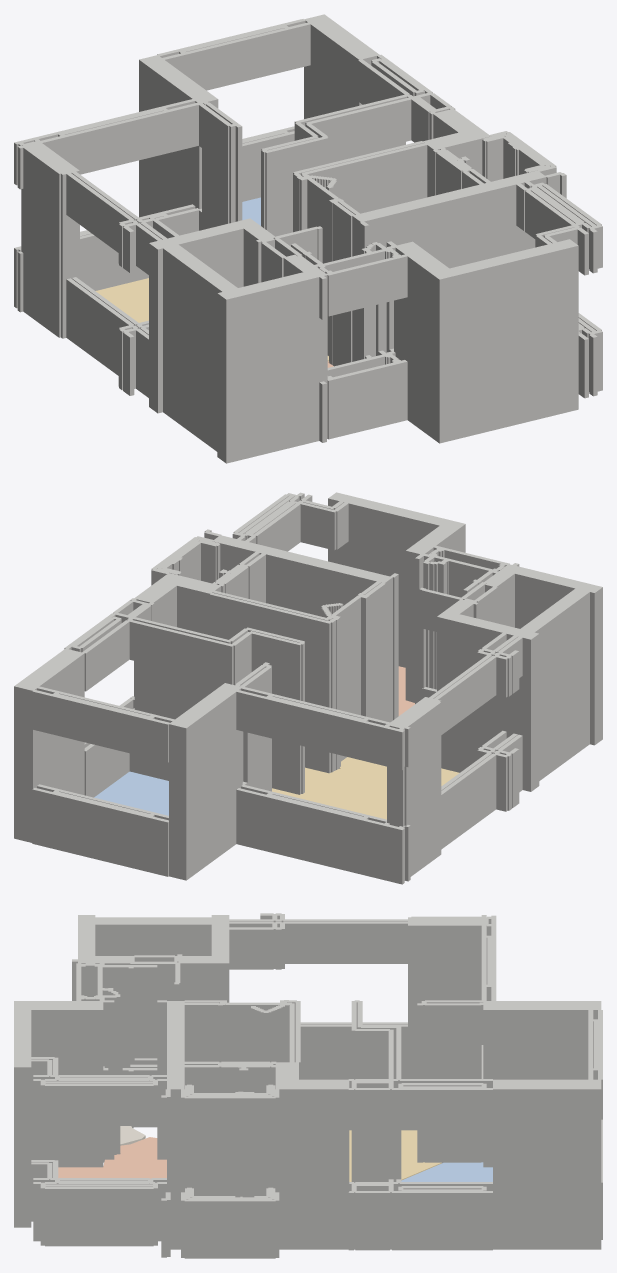
3 renders of one model, top to bottom at view 1: azimuth 30°, elevation 25°; view 2: azimuth 150°, elevation 25°; view 3: azimuth 270°, elevation 25°, orthographic. The views are drawn at different scales.
Parts seen in each view (by area): view 1: walls, room:living:5; view 2: walls, room:living:5, room:bedroom:6; view 3: walls, room:kitchen:1, room:bedroom:6, room:living:5.
Boxes of the visible parts, x1,y1,x2,y2 form: walls: (14,14,602,463); room:living:5: (95,278,328,361); walls: (14,492,602,884); room:living:5: (272,757,459,819); room:bedroom:6: (94,771,168,815); walls: (14,913,602,1258); room:kitchen:1: (58,1137,166,1178); room:bedroom:6: (401,1162,492,1181); room:living:5: (349,1130,441,1181).
Bounding box in the file's own units: 6.93 × 2.8 × 9.33.
